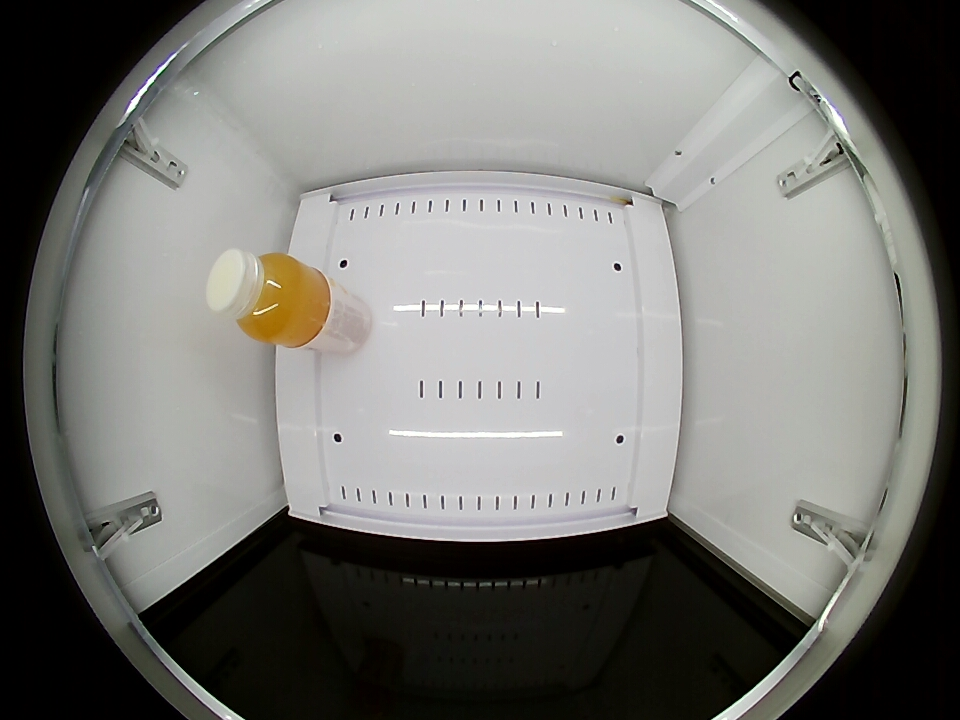weic: (206, 249, 331, 347)
